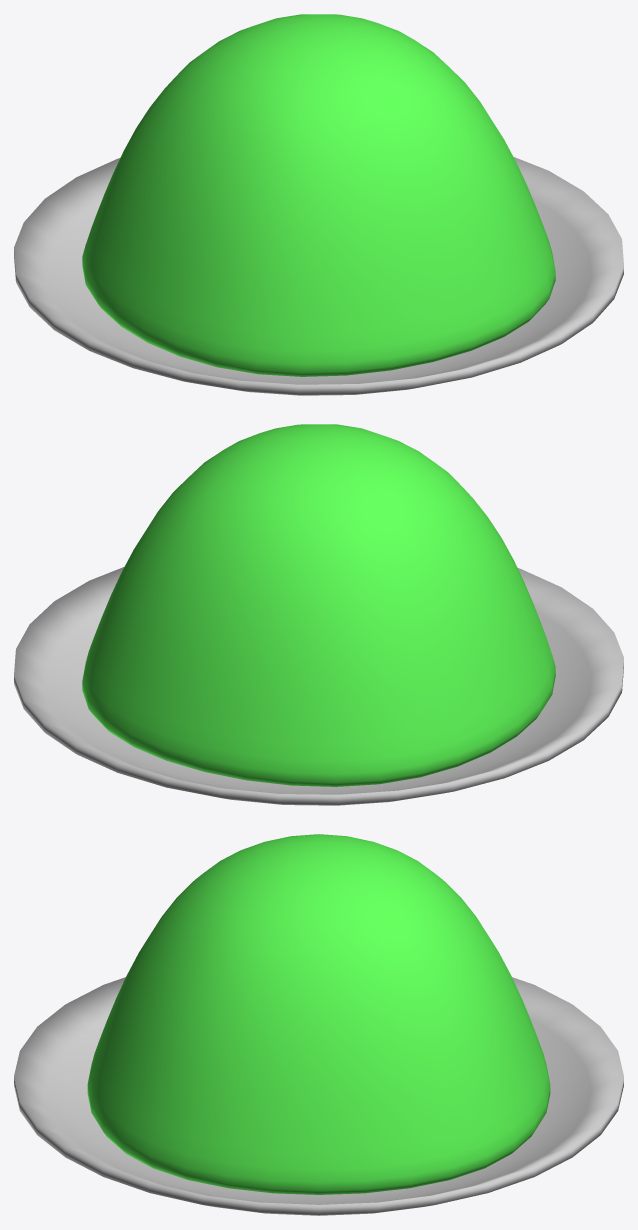
The model's file is where's my stapler.fbx.
3 renders of one model, top to bottom at view 1: azimuth 30°, elevation 25°; view 2: azimuth 150°, elevation 25°; view 3: azimuth 270°, elevation 25°, orthographic.
Visible parts, largest first — view 1: Cube.002, Circle; view 2: Cube.002, Circle; view 3: Cube.002, Circle.
Part boxes in pixels (bbox=[...]): Cube.002: bbox=[82, 14, 555, 376]; Circle: bbox=[14, 157, 623, 395]; Cube.002: bbox=[82, 424, 555, 786]; Circle: bbox=[14, 567, 623, 805]; Cube.002: bbox=[87, 834, 550, 1194]; Circle: bbox=[14, 977, 623, 1215].
Size of the model in its own units: 52.38 by 26.51 by 52.38.
